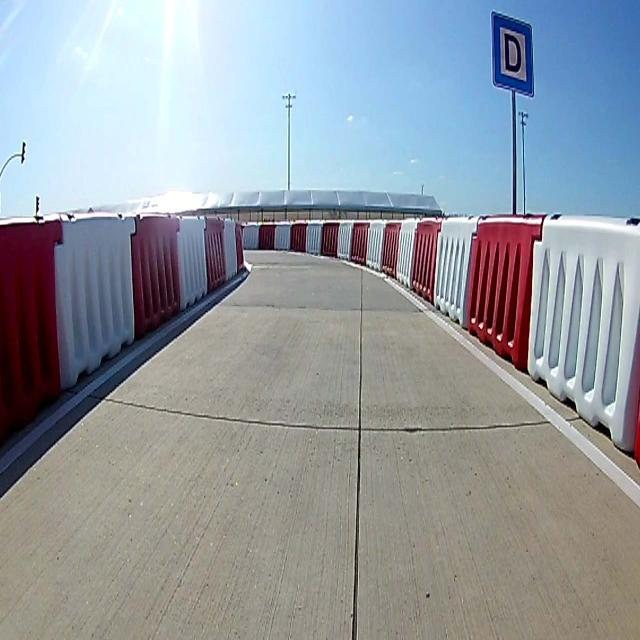durak: (494, 13, 532, 94)
